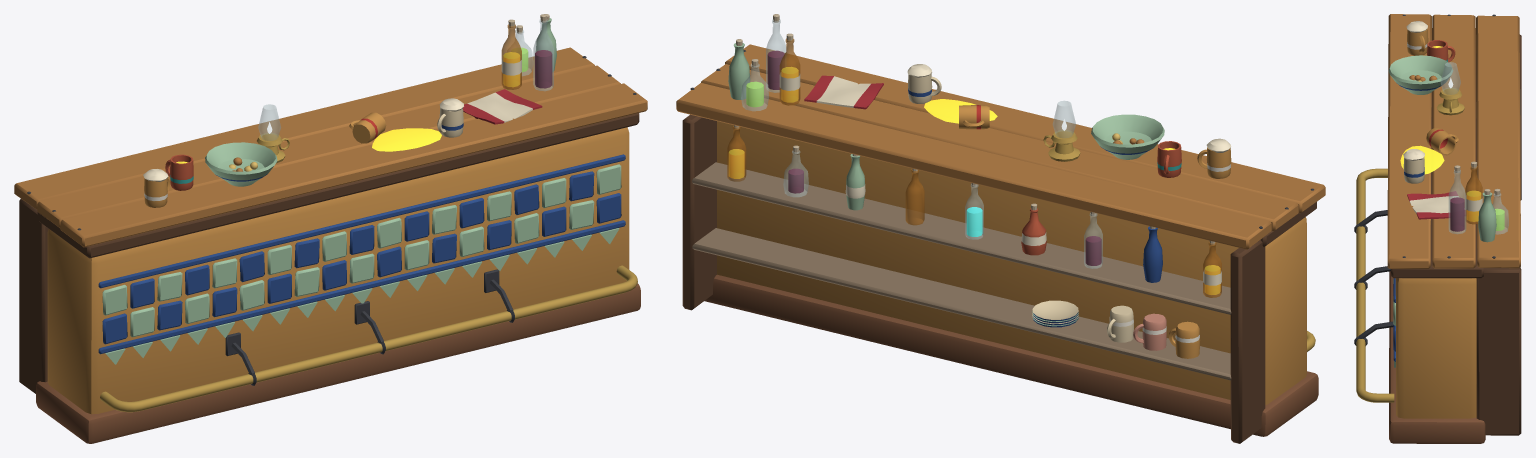
File: deco_bar_counter.fbx
3 renders of one model, left to right at view 1: azimuth 30°, elevation 25°; view 2: azimuth 150°, elevation 25°; view 3: azimuth 270°, elevation 25°, orthographic. The views are drawn at different scales.
Parts seen in each view (by area): view 1: BarCounter_Body, BarCounter_Top, BarCounter_Tiles, BarCounter_Mugs, BarCounter_FootRail, BarCounter_Bottles, BarCounter_Lamp; view 2: BarCounter_Body, BarCounter_Top, BarCounter_Mugs, BarCounter_Bottles, BarCounter_Lamp; view 3: BarCounter_Top, BarCounter_Body, BarCounter_Mugs, BarCounter_FootRail, BarCounter_Bottles, BarCounter_Lamp, BarCounter_Tiles.
Boxes of the visible parts, x1=… form: BarCounter_Body: x1=19, y1=113, x2=640, y2=443; BarCounter_Top: x1=14, y1=47, x2=647, y2=247; BarCounter_Tiles: x1=98, y1=154, x2=625, y2=364; BarCounter_Mugs: x1=143, y1=89, x2=542, y2=207; BarCounter_FootRail: x1=100, y1=265, x2=637, y2=412; BarCounter_Bottles: x1=501, y1=14, x2=556, y2=91; BarCounter_Lamp: x1=257, y1=104, x2=289, y2=163; BarCounter_Body: x1=682, y1=114, x2=1318, y2=443; BarCounter_Top: x1=676, y1=44, x2=1325, y2=249; BarCounter_Mugs: x1=804, y1=64, x2=1231, y2=358; BarCounter_Bottles: x1=727, y1=14, x2=1221, y2=297; BarCounter_Lamp: x1=1043, y1=100, x2=1080, y2=161; BarCounter_Top: x1=1387, y1=14, x2=1520, y2=268; BarCounter_Body: x1=1389, y1=28, x2=1521, y2=443; BarCounter_Mugs: x1=1388, y1=21, x2=1520, y2=219; BarCounter_FootRail: x1=1354, y1=168, x2=1394, y2=402; BarCounter_Bottles: x1=1448, y1=161, x2=1508, y2=242; BarCounter_Lamp: x1=1436, y1=62, x2=1464, y2=115; BarCounter_Tiles: x1=1393, y1=278, x2=1395, y2=367.
Bounding box in the file's own units: 350 × 168 × 101.
